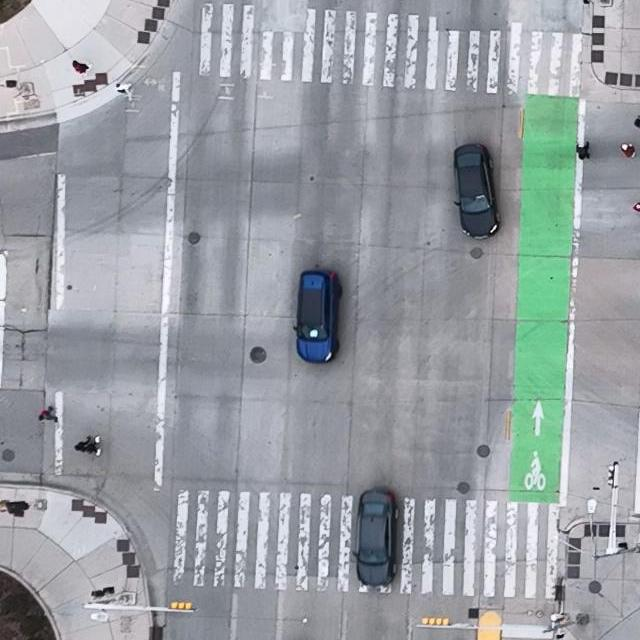car: (352, 487, 401, 587), (293, 269, 344, 365), (455, 142, 502, 239)
